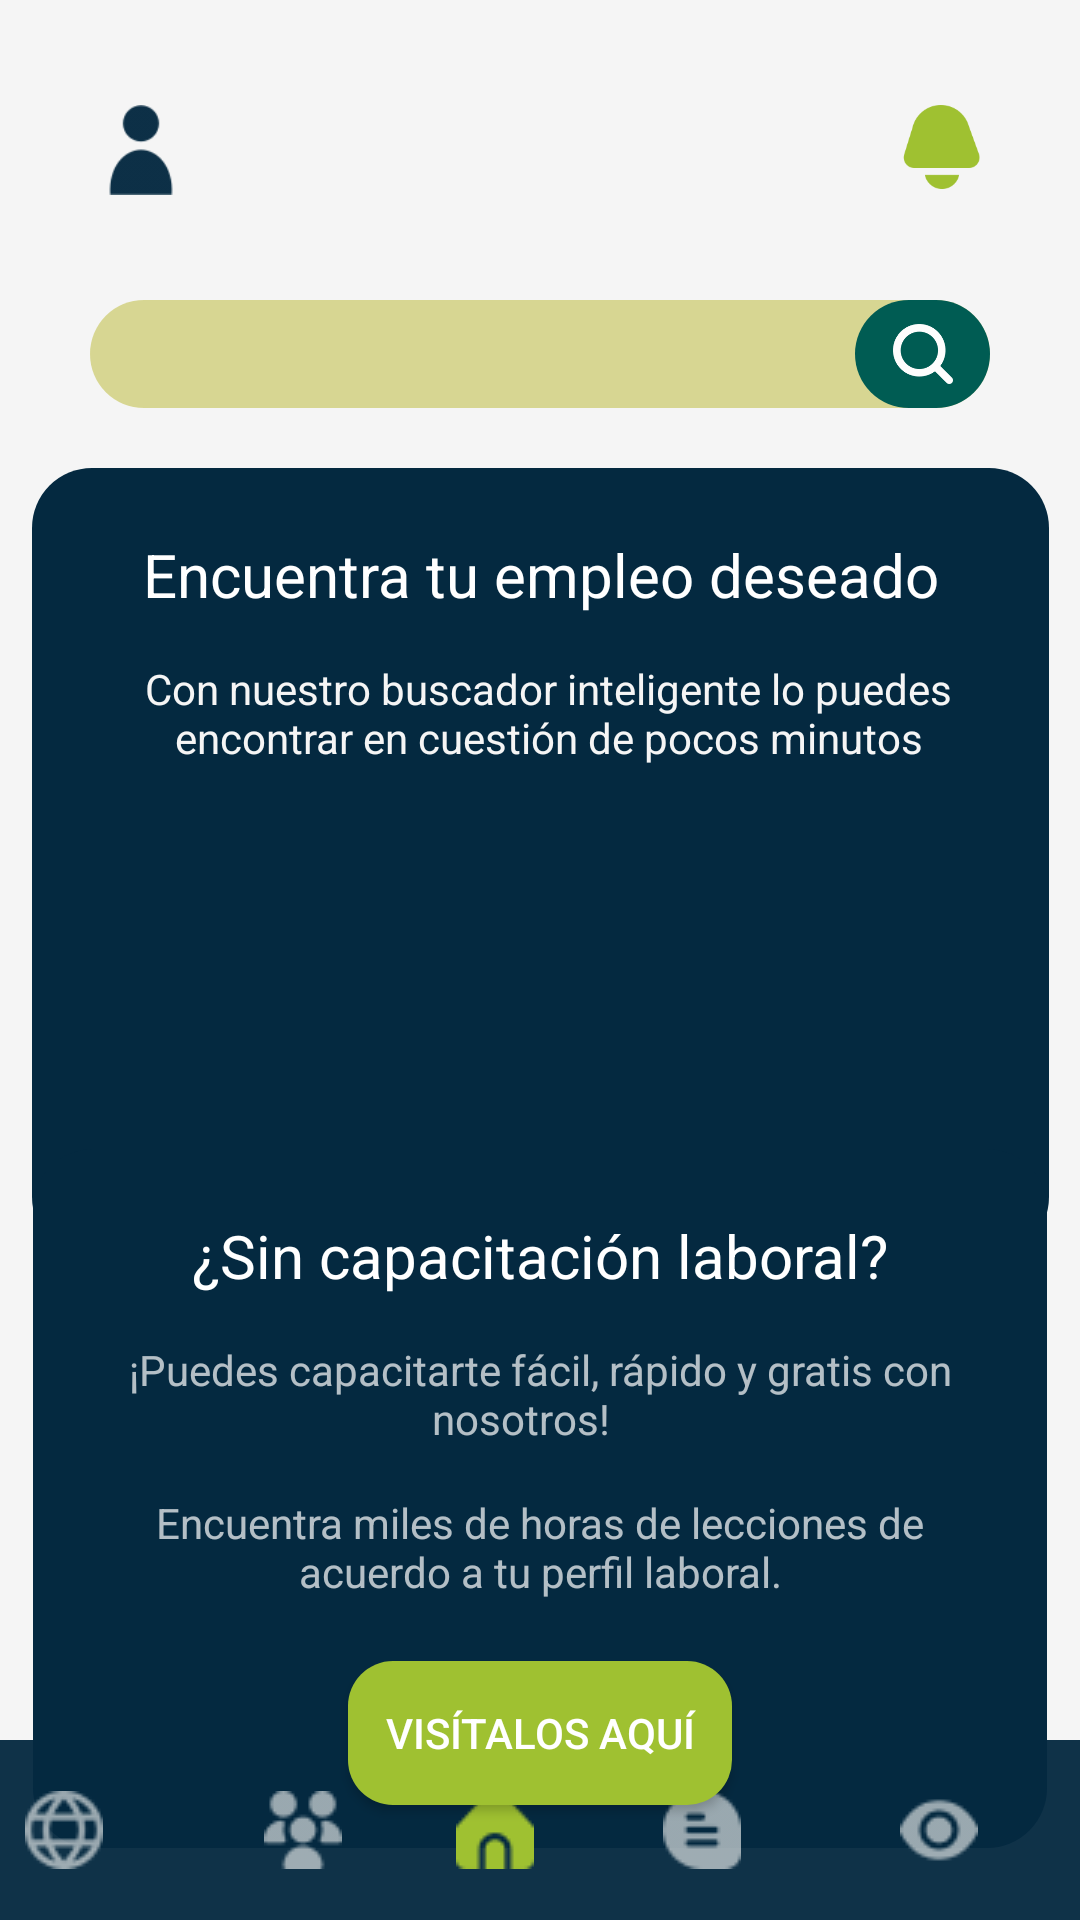

Locate icon controls on the screen. Image size 1080px×1920px, boxes as (x1, y1, x2, y2).
buscar: (893, 324, 953, 384)
campana: (903, 105, 980, 189)
ojo: (900, 1799, 978, 1861)
usuario: (109, 105, 173, 195)
usuarios: (264, 1791, 342, 1869)
